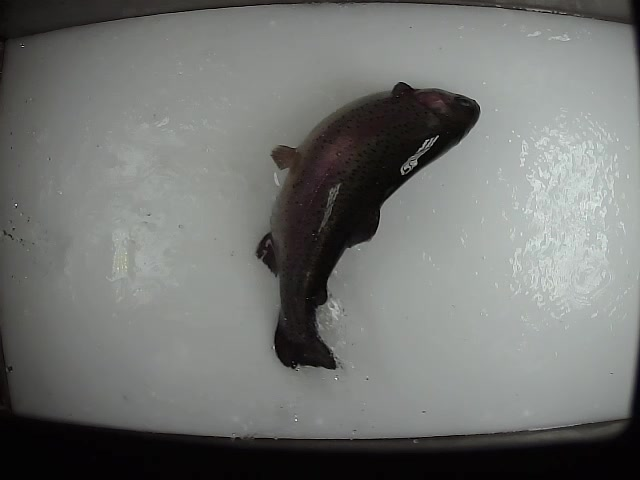fish: (254, 79, 482, 371)
